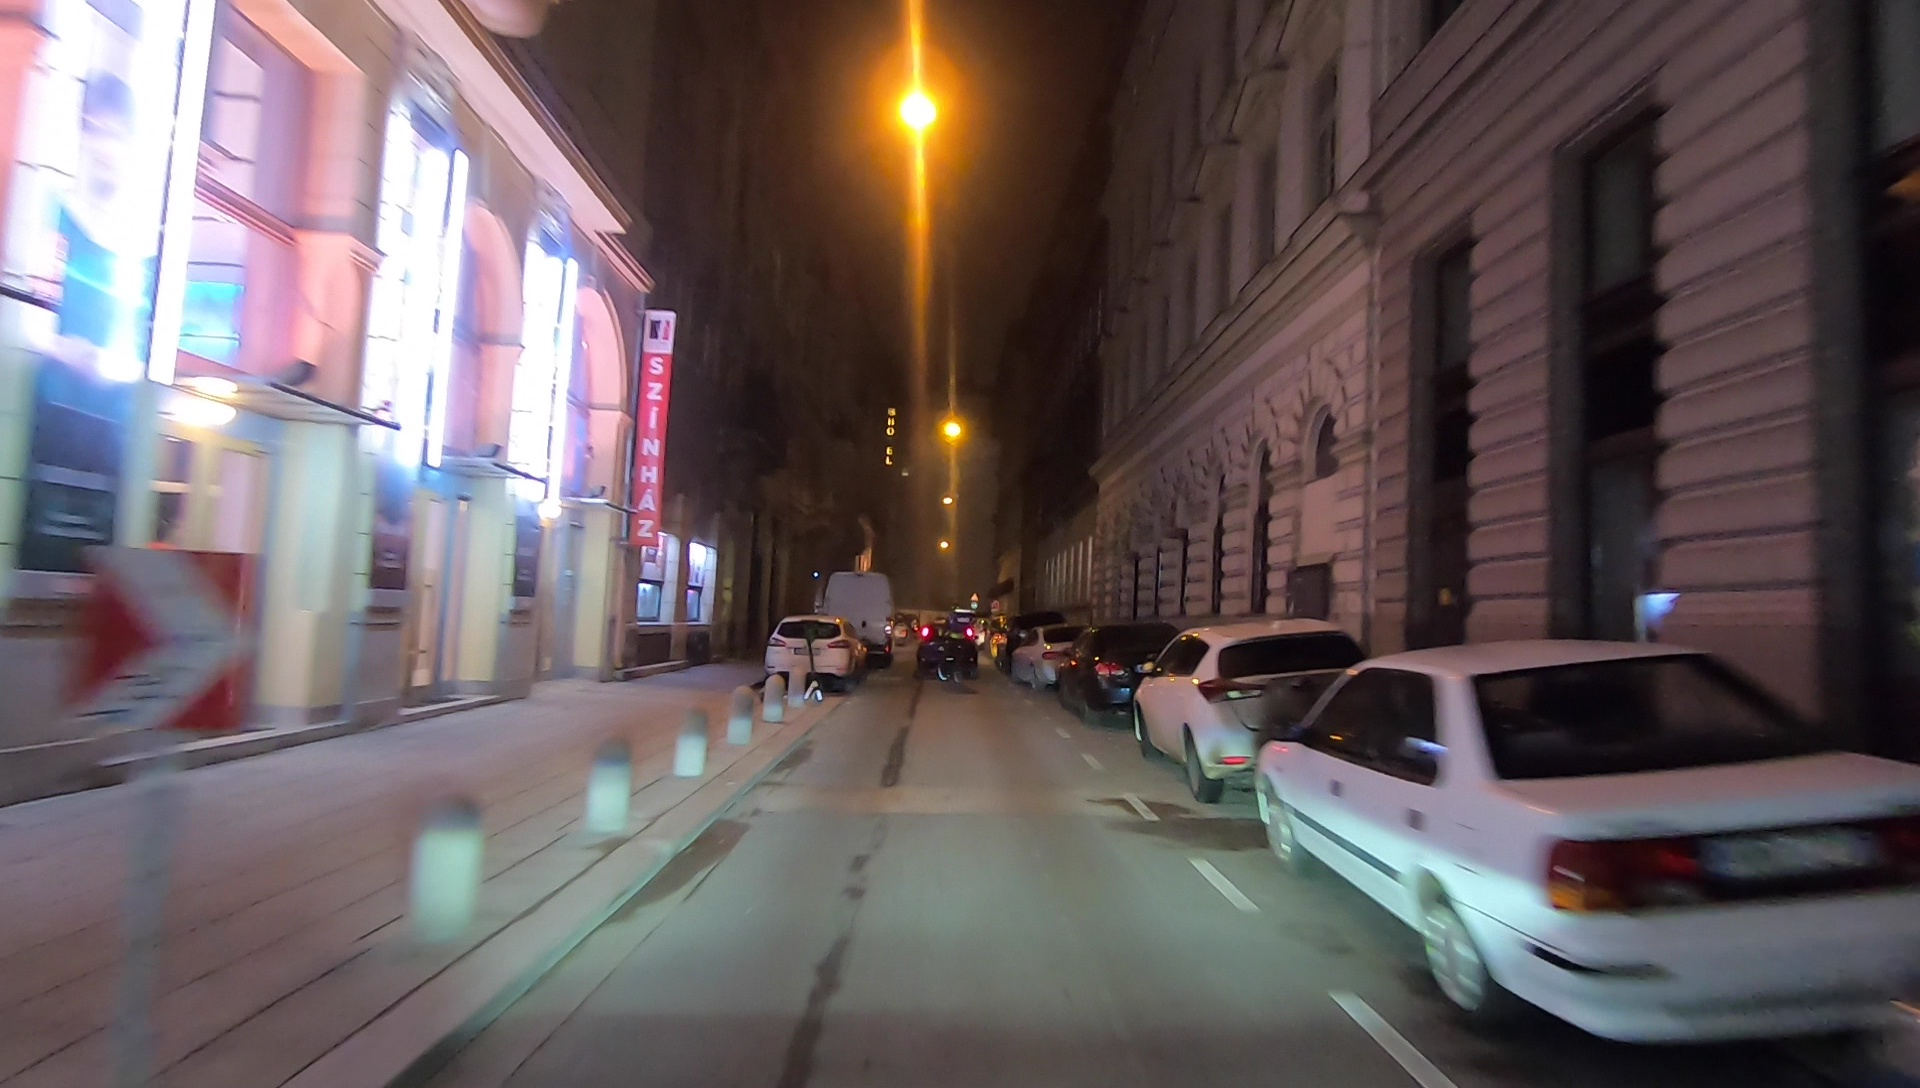person: (1412, 574, 1473, 713)
